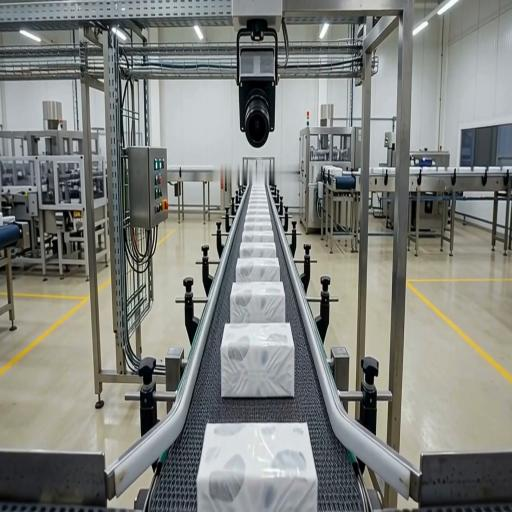good: (197, 423, 317, 511), (221, 324, 294, 397), (230, 282, 285, 323), (236, 258, 280, 282), (240, 242, 276, 257), (242, 231, 275, 243), (244, 220, 272, 230), (247, 205, 269, 215), (246, 213, 270, 222), (249, 198, 267, 206)
